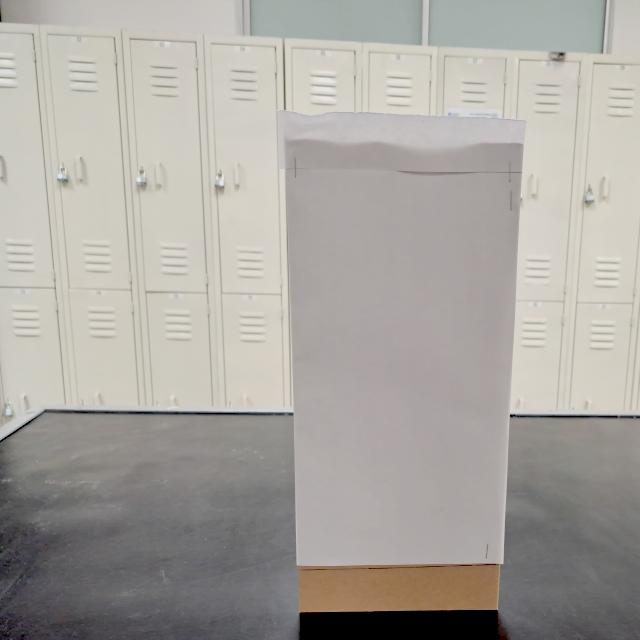wall: (268, 101, 533, 625)
